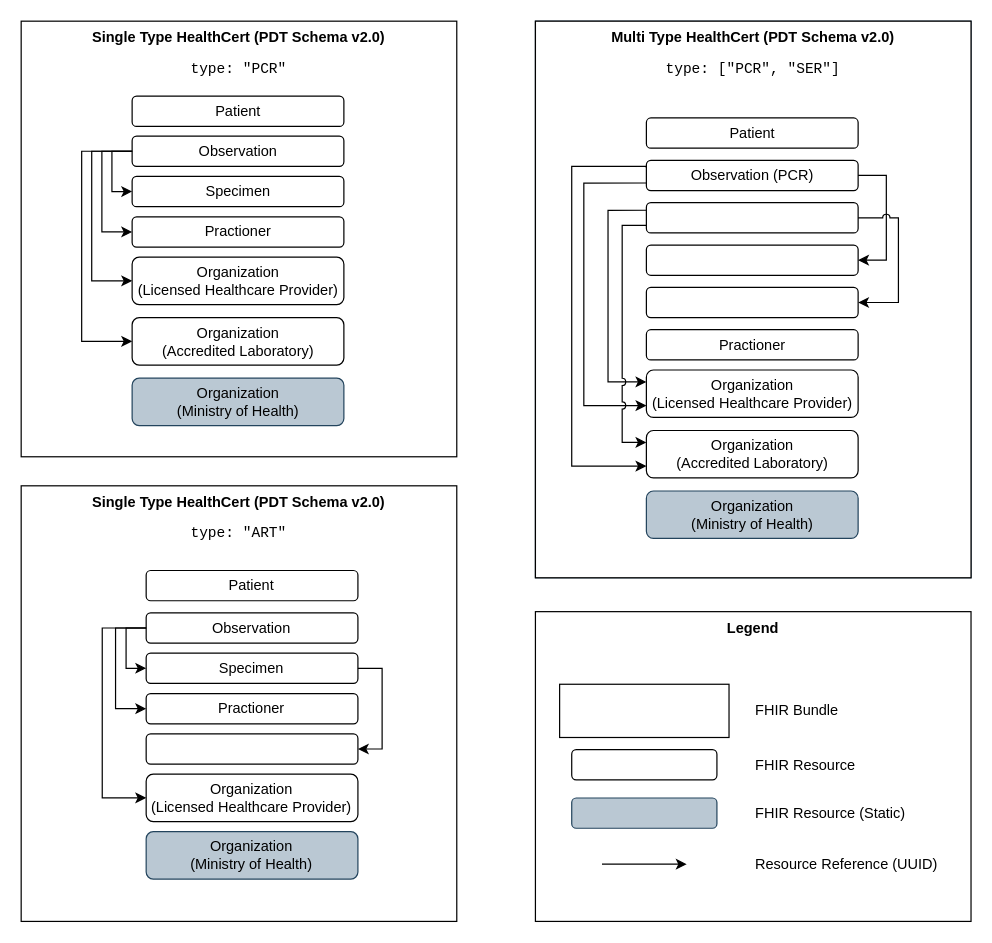
Image size: 992x943. Some labels were removed from this diagram. Each missing label, with the centre of its shape:
"Device" belongs at point 251,748.
"Observation (SER)" belongs at point 751,217.
"Specimen (PCR)" belongs at point 751,259.
"Specimen (SER)" belongs at point 751,302.
